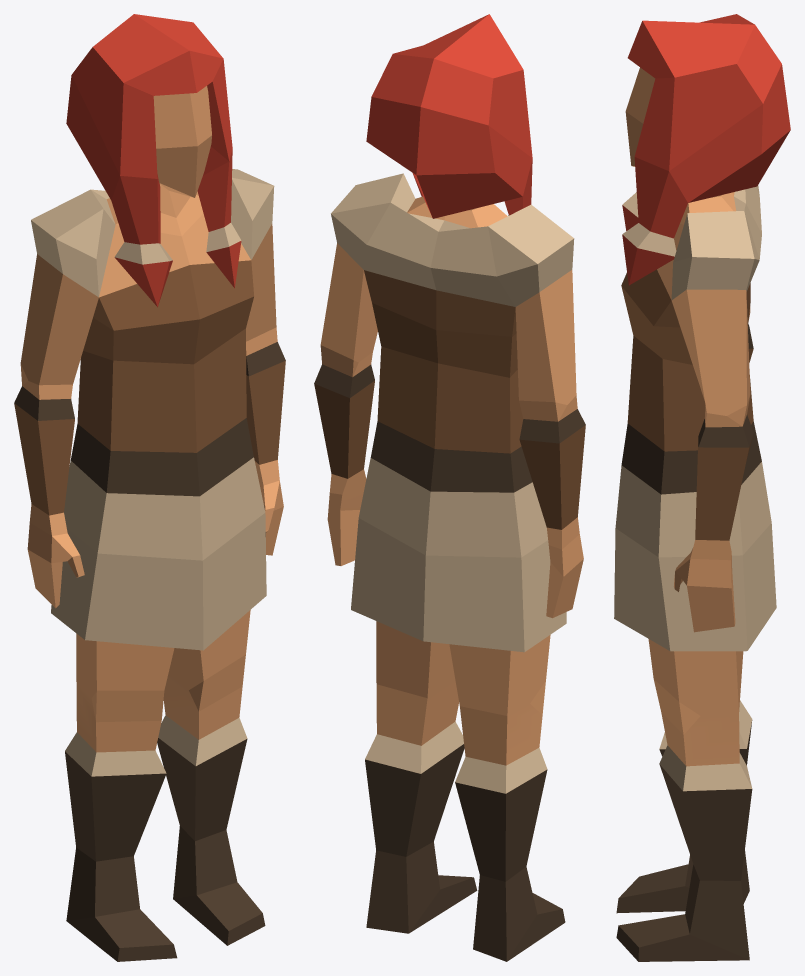
File: people_woman-viking.fbx
The picture shows the model from 3 angles, left to right: view 1: azimuth 30°, elevation 25°; view 2: azimuth 150°, elevation 25°; view 3: azimuth 270°, elevation 25°; orthographic projection.
Visible parts, largest first — view 1: people_woman_viking; view 2: people_woman_viking; view 3: people_woman_viking.
Boxes of the visible parts, <box> form: people_woman_viking: <box>14,14,285,961</box>; people_woman_viking: <box>314,14,585,961</box>; people_woman_viking: <box>614,14,790,961</box>.
Bounding box in the file's own units: 58.01 × 200 × 35.31.
